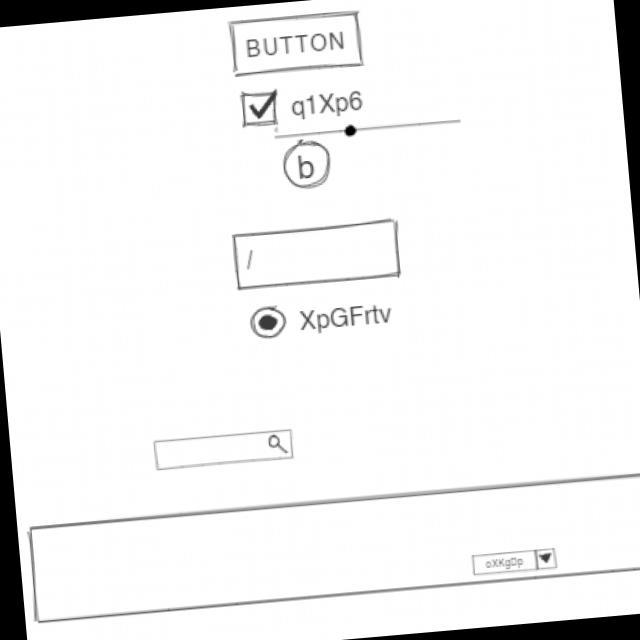button: (228, 5, 365, 81)
checkbox: (238, 78, 368, 129)
container: (21, 466, 640, 626)
icon-button: (280, 138, 336, 192)
input: (232, 217, 406, 296)
radio: (247, 292, 397, 346)
search: (151, 427, 298, 475)
select: (469, 546, 560, 577)
slider: (271, 112, 468, 147)
